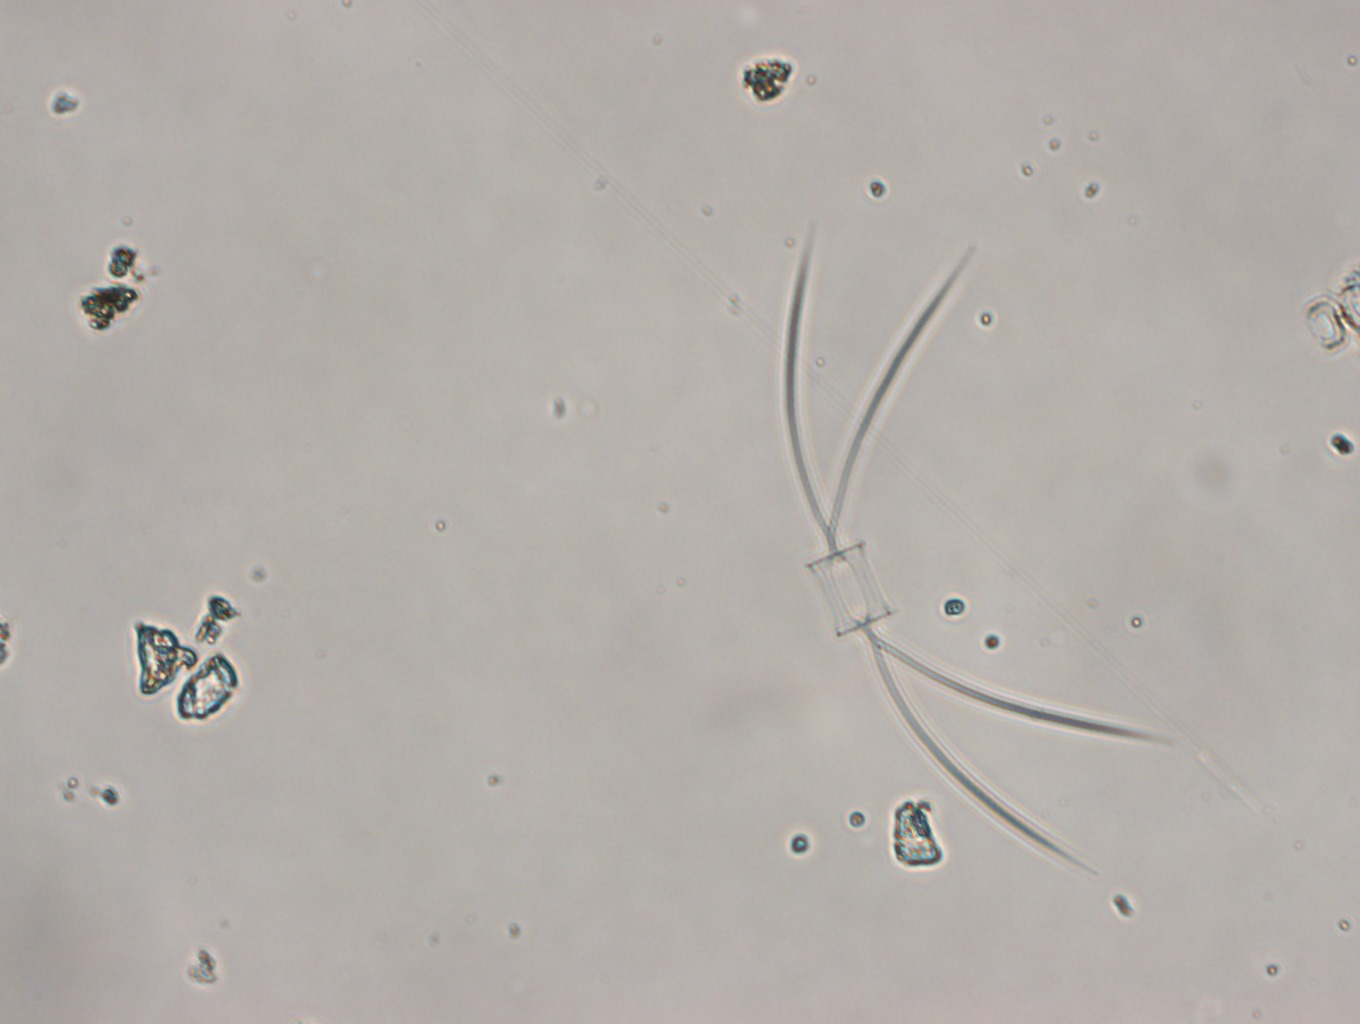chaetoceros: (772, 234, 1160, 869)
